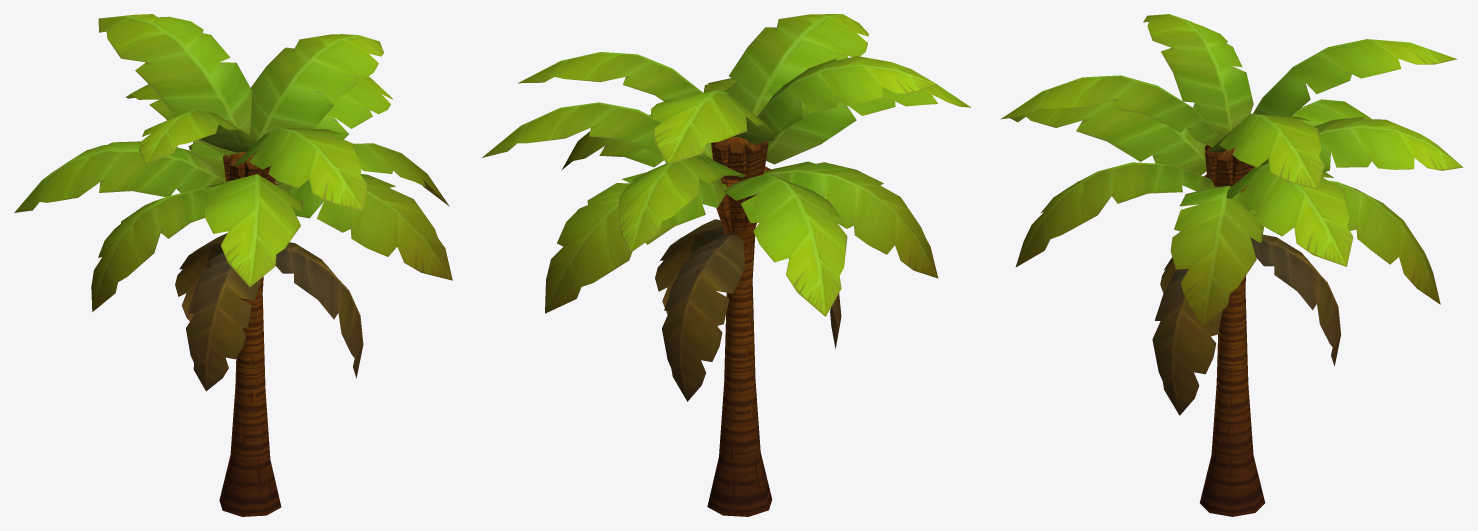
File: CoconutTreeEdit.FBX
The picture shows the model from 3 angles, left to right: view 1: azimuth 30°, elevation 25°; view 2: azimuth 150°, elevation 25°; view 3: azimuth 270°, elevation 25°; orthographic projection. The views are drawn at different scales.
Parts seen in each view (by area): view 1: coconut_tree; view 2: coconut_tree; view 3: coconut_tree.
Part boxes in pixels (x1,y1,x2,y2): coconut_tree: (14,14,452,516); coconut_tree: (482,14,970,516); coconut_tree: (1001,14,1463,516).
Size of the model in its own units: 1.71 by 1.97 by 1.85.
